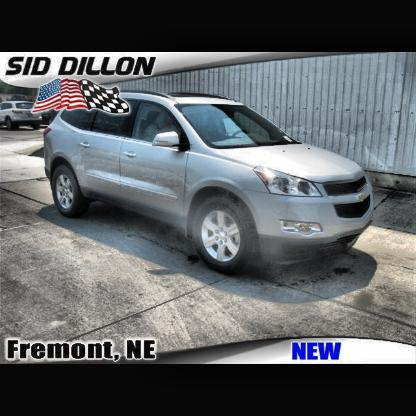Chevrolet Traverse SUV 2012: (42, 91, 376, 276)
